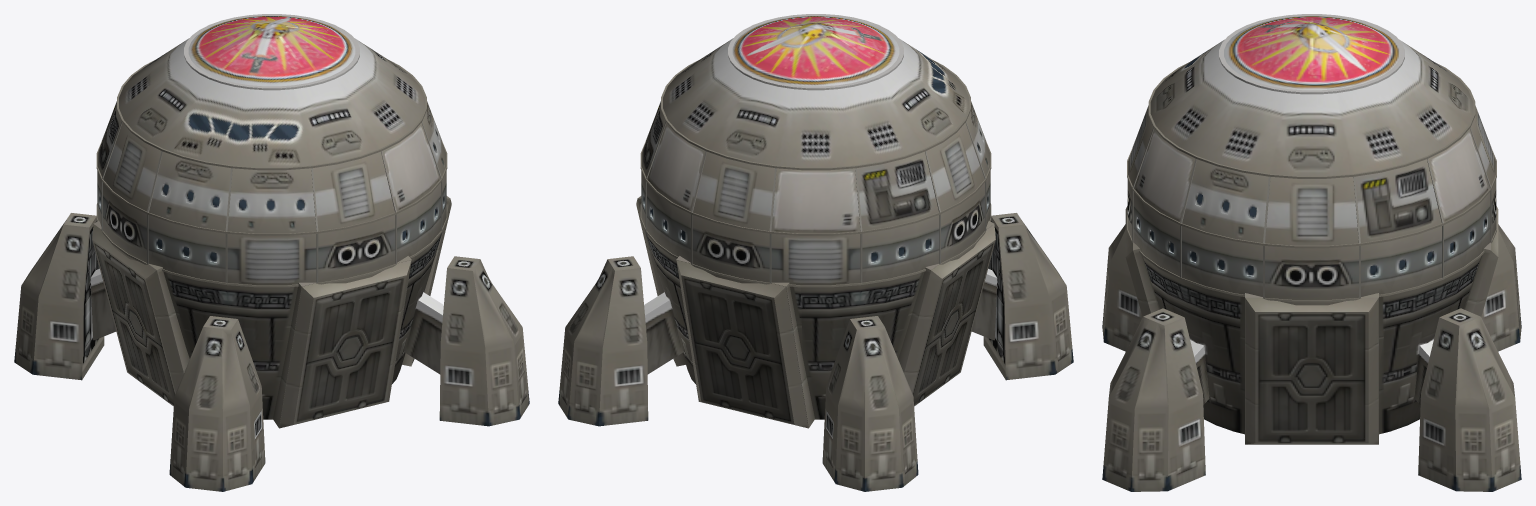
Rendered from dropshipdavion_cad.glb.
The picture shows the model from 3 angles, left to right: view 1: azimuth 30°, elevation 25°; view 2: azimuth 150°, elevation 25°; view 3: azimuth 270°, elevation 25°; orthographic projection. The views are drawn at different scales.
Parts seen in each view (by area): view 1: Dropship; view 2: Dropship; view 3: Dropship.
Part boxes in pixels (box(x1,y1,x2,y2)): Dropship: box(14, 14, 529, 491); Dropship: box(558, 14, 1073, 491); Dropship: box(1102, 14, 1521, 491).
Bounding box in the file's own units: 34.85 × 34.65 × 34.85.
1 material, 1 textured.
